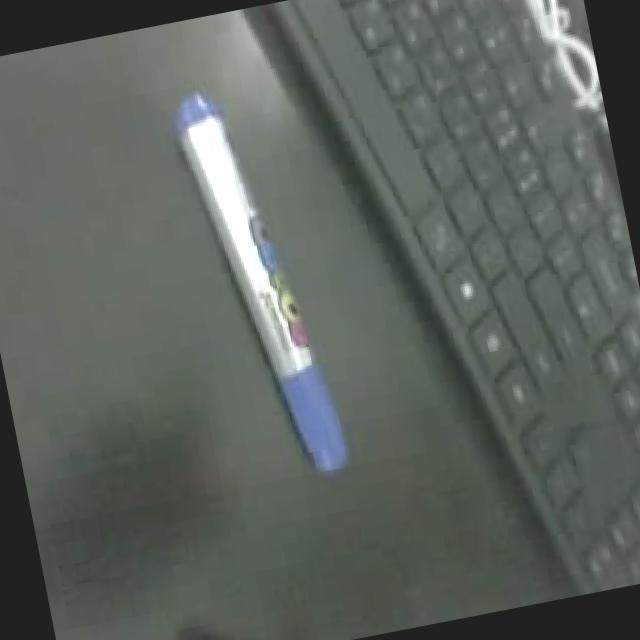board-marker: (152, 84, 358, 497)
